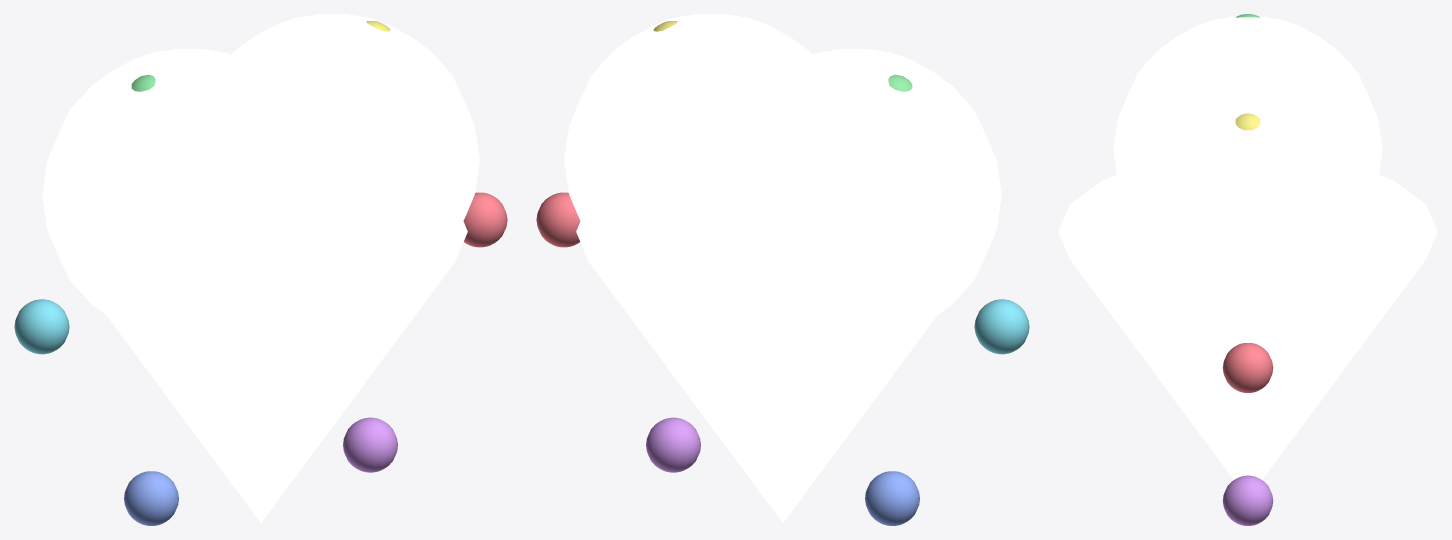
The model's file is powerup_heart.glb.
The picture shows the model from 3 angles, left to right: view 1: azimuth 30°, elevation 25°; view 2: azimuth 150°, elevation 25°; view 3: azimuth 270°, elevation 25°; orthographic projection. The views are drawn at different scales.
Visible parts, largest first — view 1: Heart_joined; view 2: Heart_joined; view 3: Heart_joined.
Part boxes in pixels (box(x1,y1,x2,y2)): Heart_joined: box(14, 14, 507, 525); Heart_joined: box(536, 14, 1029, 525); Heart_joined: box(1058, 14, 1437, 525).
Size of the model in its own units: 0.8474 by 0.8 by 0.6261.
